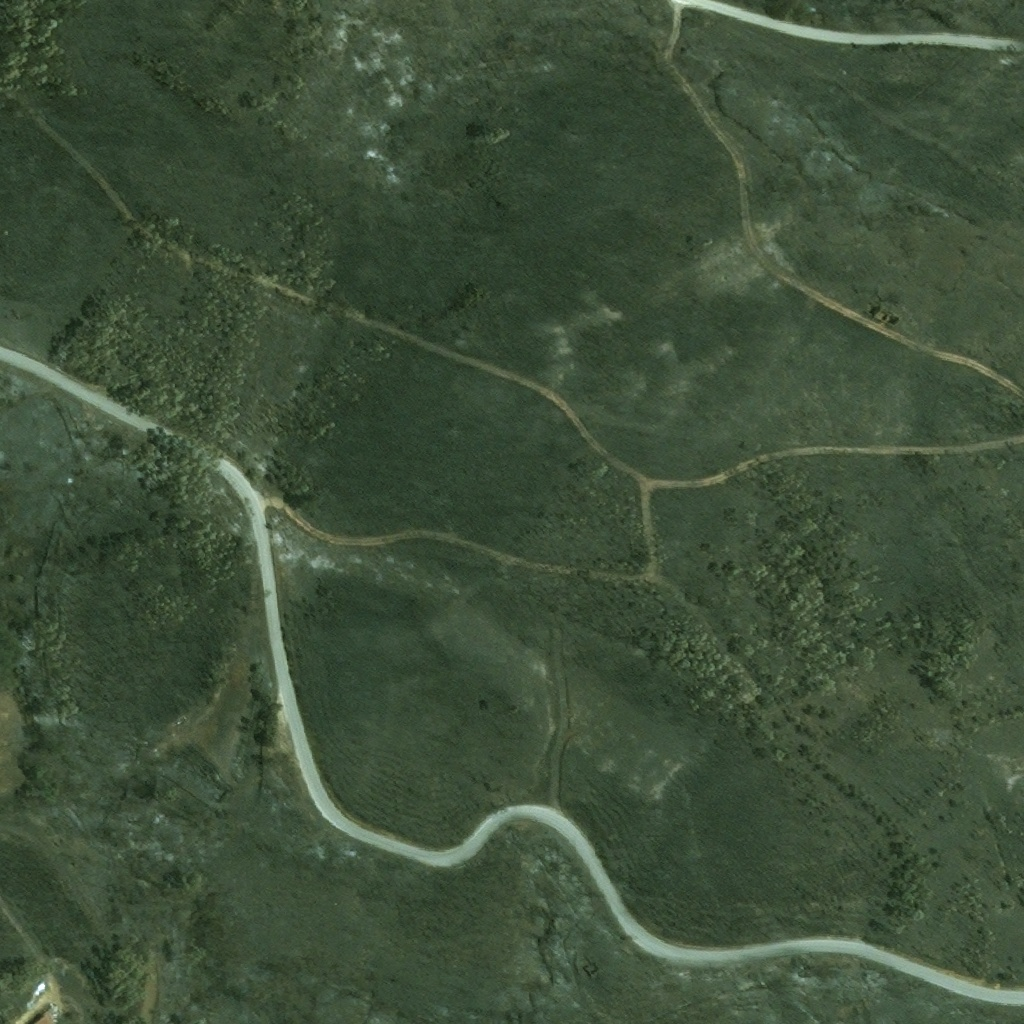4 un-classified: (42, 1006, 59, 1023)
